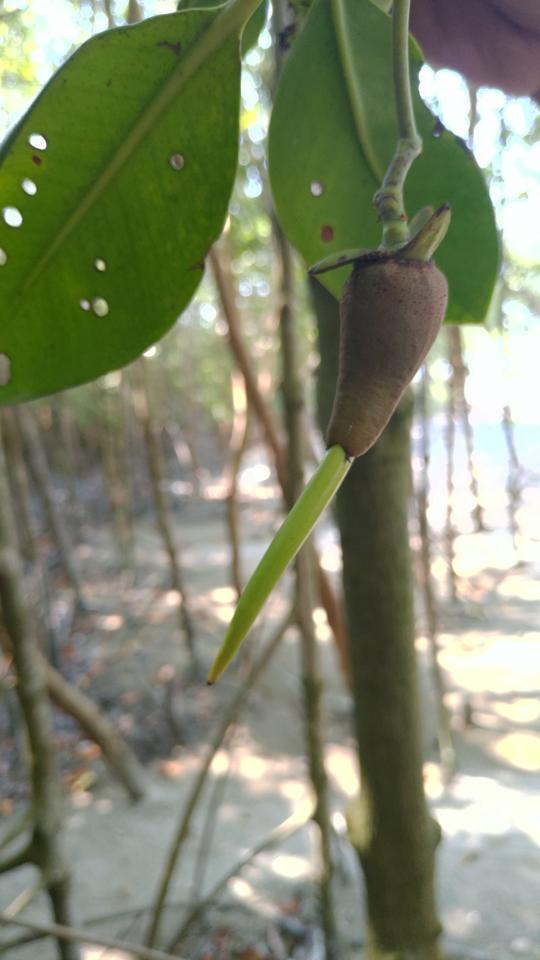mentah: (185, 192, 476, 703)
